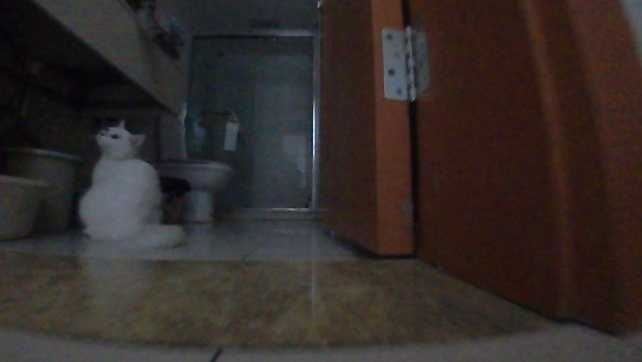cat: (81, 121, 184, 248)
door_anno_part: (309, 0, 640, 337)
door_sill: (1, 246, 556, 361)
toilet: (159, 113, 231, 224)
